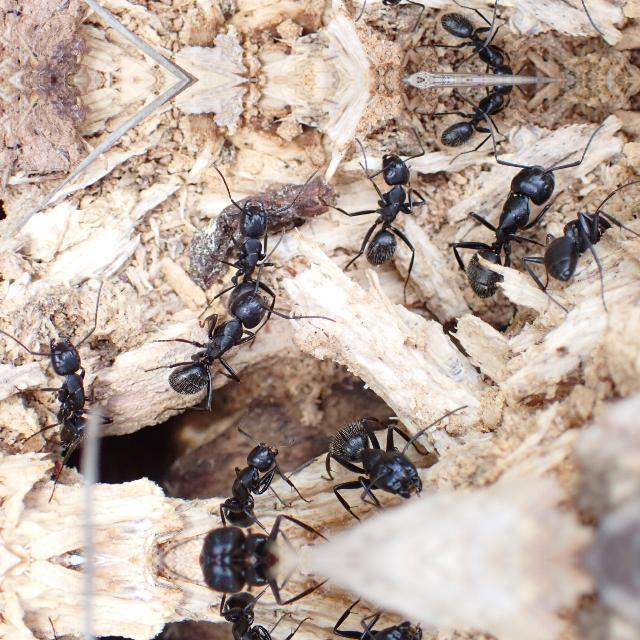Camponotus: (462, 131, 564, 311), (12, 302, 112, 476), (309, 408, 456, 520), (160, 285, 286, 409), (190, 173, 294, 309), (346, 126, 434, 284), (210, 428, 304, 520), (550, 174, 630, 282), (428, 81, 530, 163), (428, 0, 530, 78), (181, 515, 321, 559), (181, 561, 321, 605), (308, 600, 456, 640), (210, 600, 302, 640), (346, 0, 434, 32)
